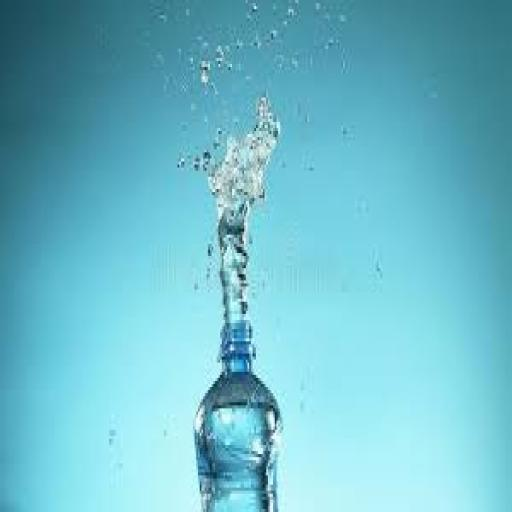bottle: (176, 179, 302, 512)
